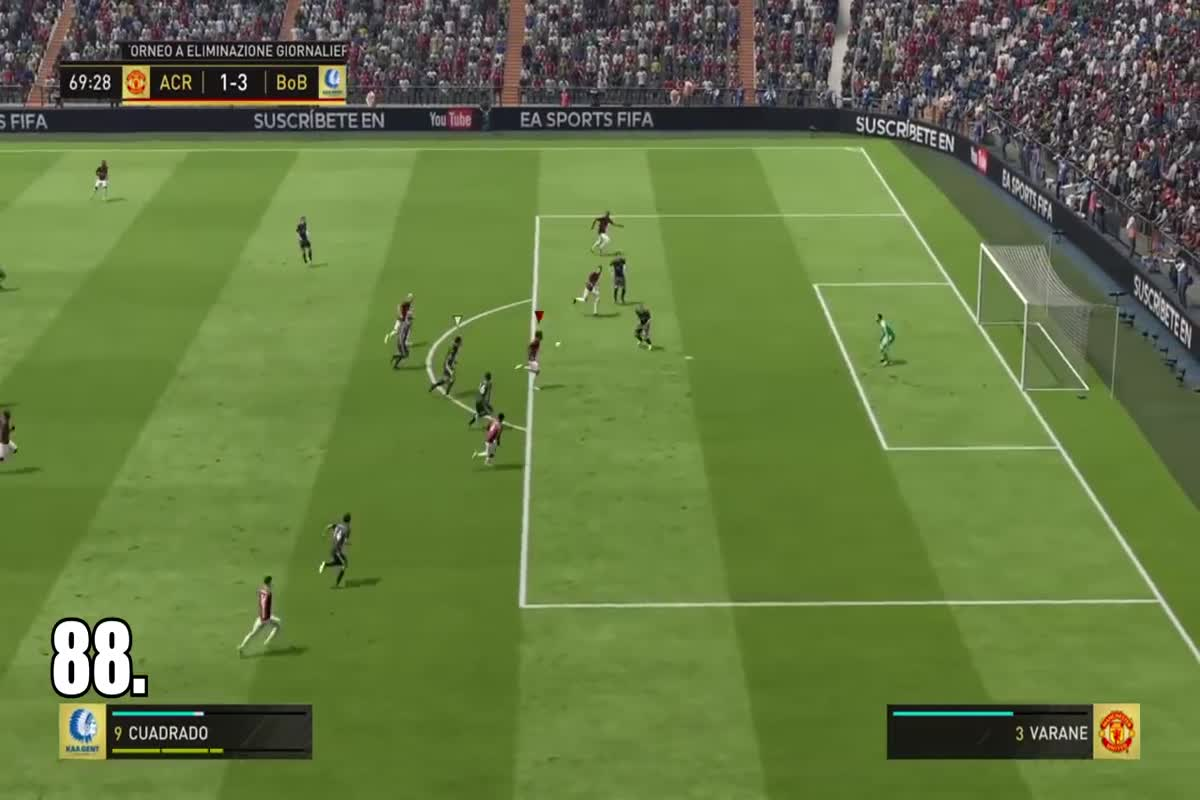ball: (547, 336, 572, 354)
